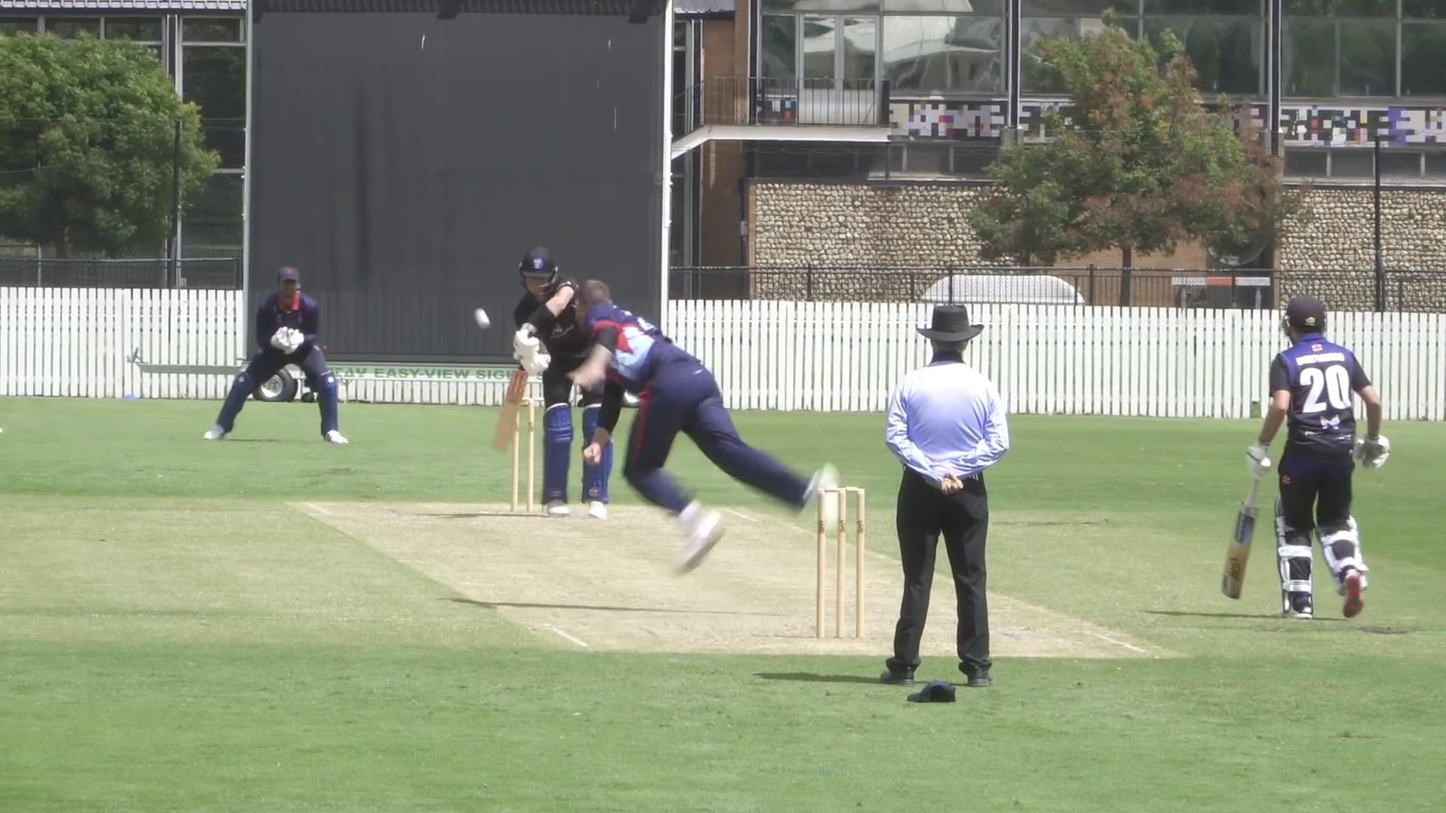ball: (467, 305, 495, 332)
